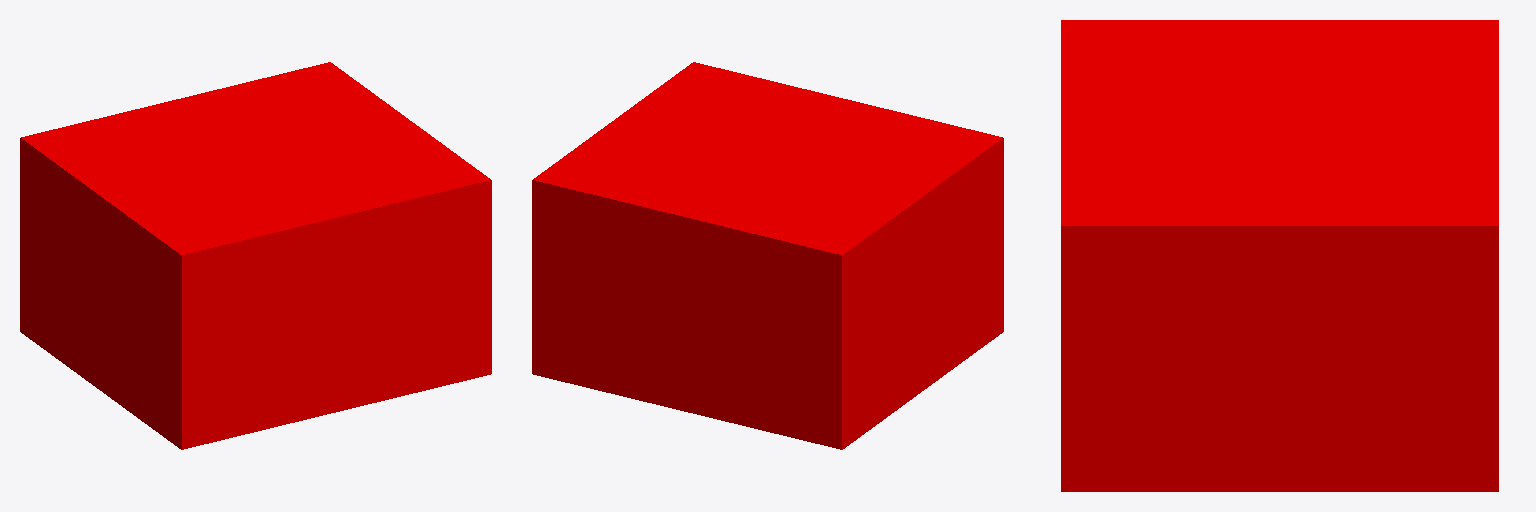
URDF robot description (fourwheelrobo):
<?xml version="1.0"?>
<!-- http//wiki.ros.org/urdf/xml/link  -->
<robot name="fourwheelrobo">
       
         <!-- this is the body of the robot -->
         <link name="body_link">
                  <visual>
                          <origin rpy="0 0 0" xyz="0 0 0"/>
                          <geometry>
                                    <box size="0.5 0.45 0.3" />
                          </geometry>
                           
                           <material name="red">
                                            <color rgba="1 0 0 1"/>
                           </material>
                  </visual>  
         </link>
                           
</robot>                                             

--- Render facts (derived) ---
Views: 3 orthographic renders of the robot side by side, from view 1: azimuth 30°, elevation 25°; view 2: azimuth 150°, elevation 25°; view 3: azimuth 270°, elevation 25°.
Model fourwheelrobo with 1 links and 0 joints (none), rooted at body_link, posed all joints at 0.
Links seen in each view (by area): view 1: body_link; view 2: body_link; view 3: body_link.
Link boxes in pixels (x1,y1,x2,y2): body_link: [20, 62, 491, 449]; body_link: [532, 62, 1003, 449]; body_link: [1061, 20, 1498, 491].
Bounding box of the posed robot: 0.5 × 0.45 × 0.3 m (x, y, z).
Geometry: primitives only (box / cylinder / sphere), no mesh files.